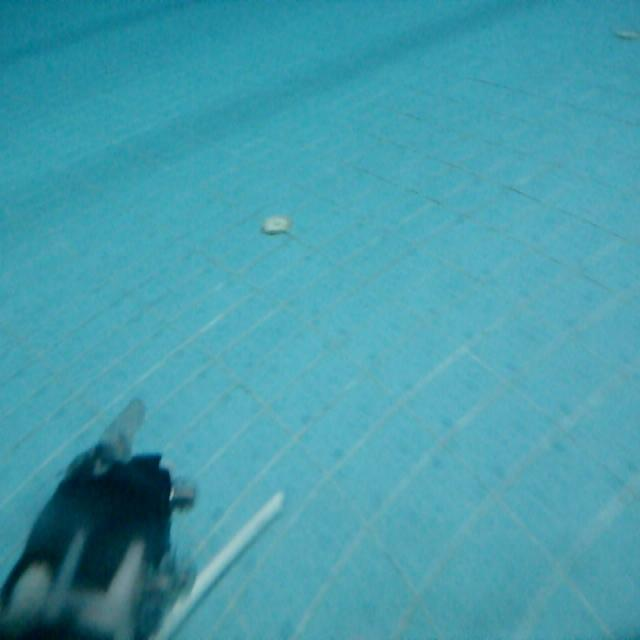Cube: (161, 492, 285, 634)
